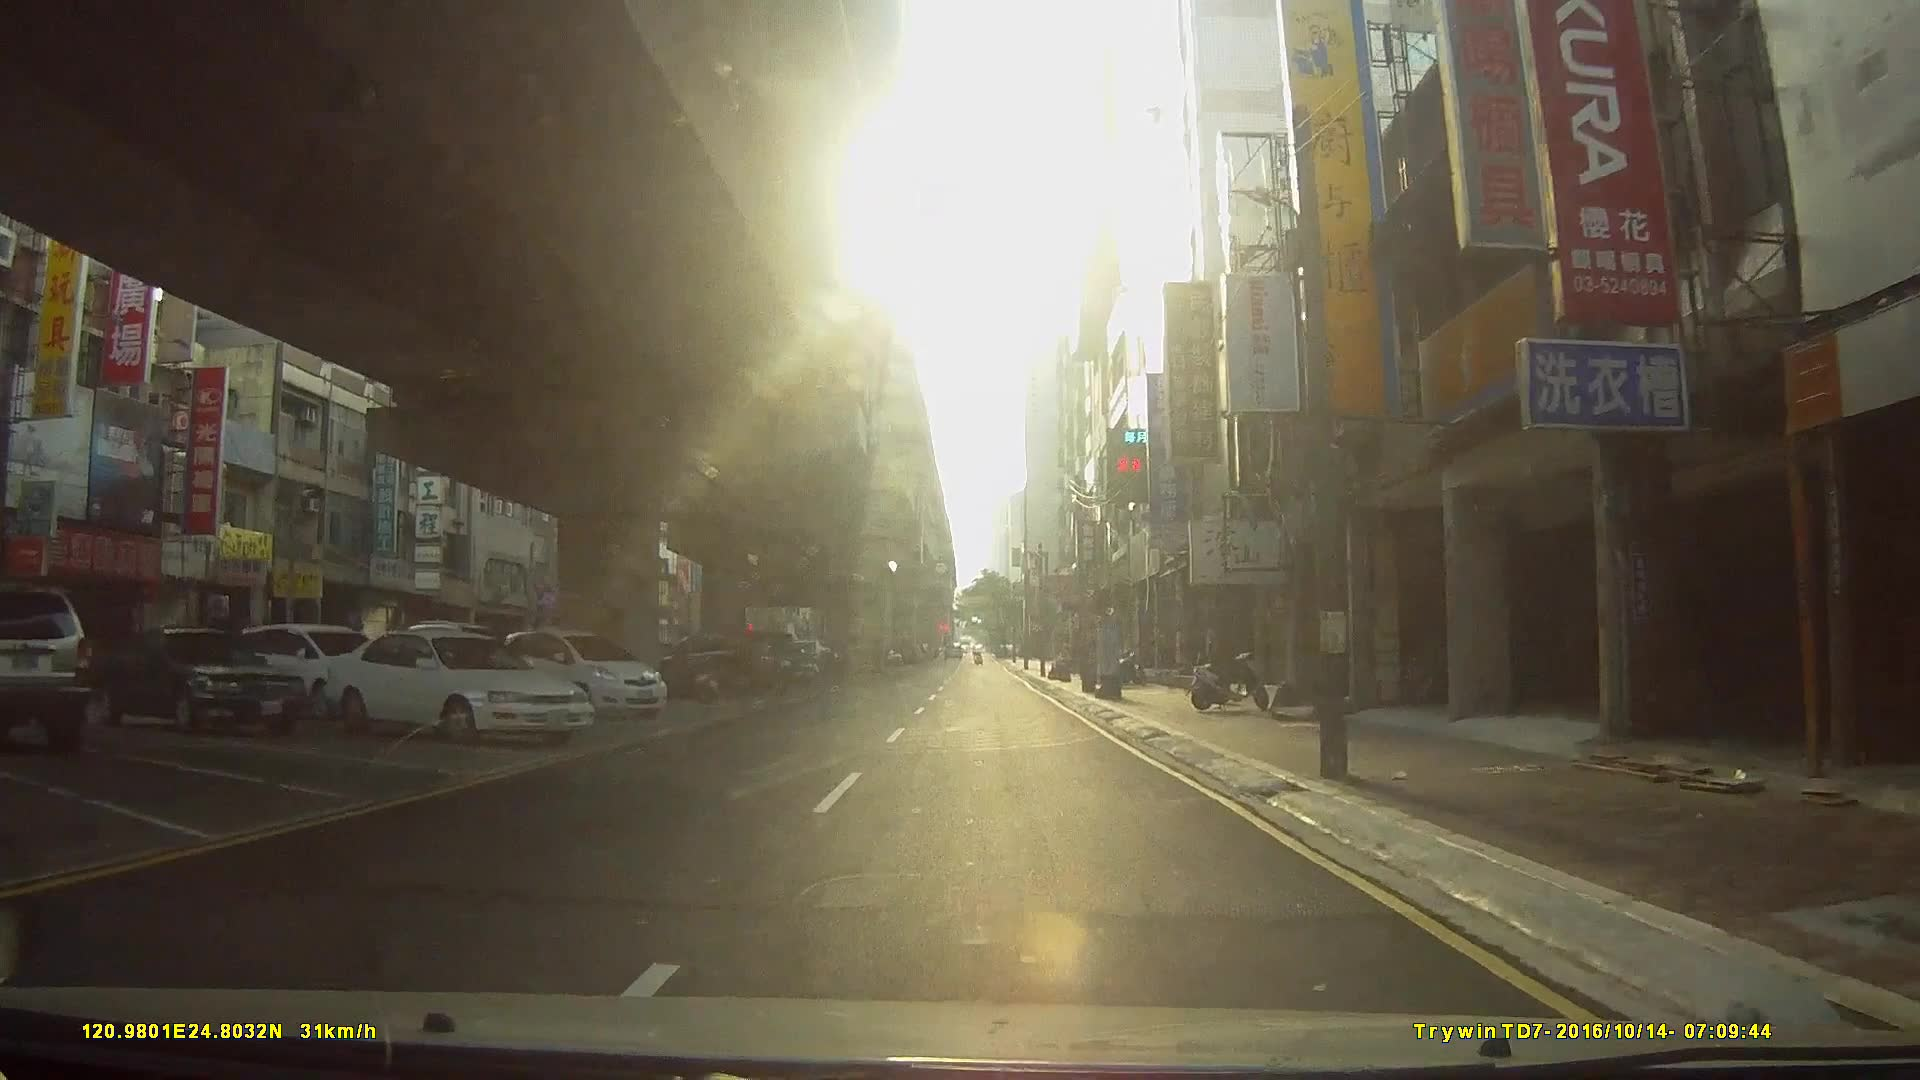vehicle: (319, 625, 593, 742), (80, 625, 309, 731), (496, 625, 667, 717), (0, 579, 88, 745), (229, 622, 382, 716)
